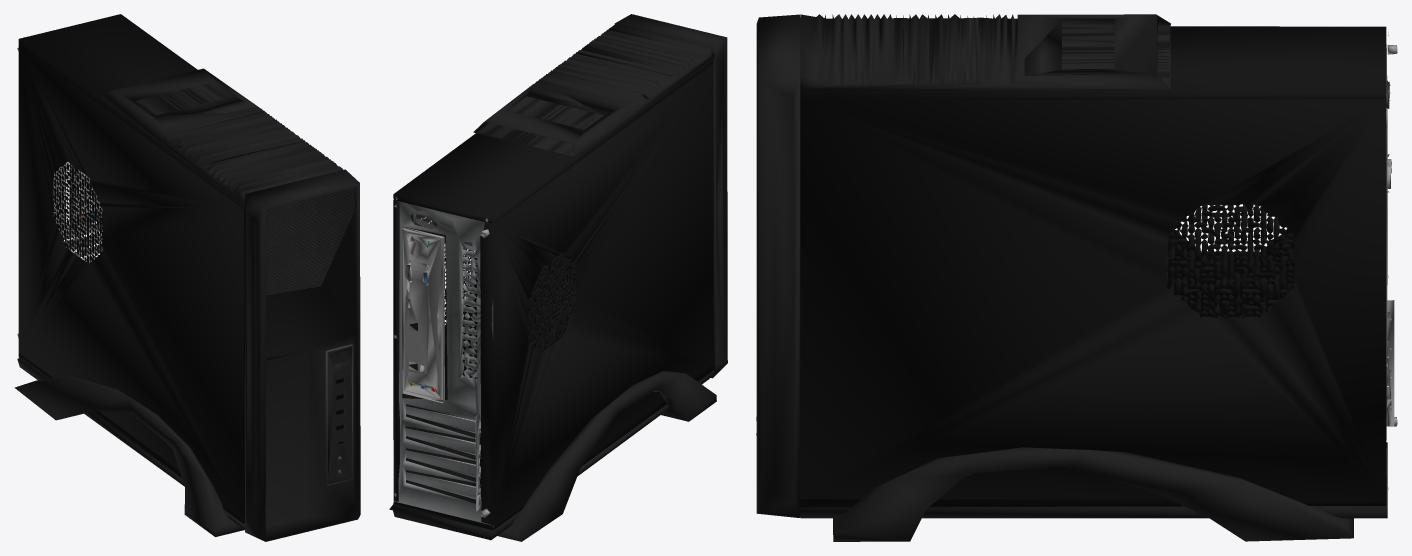
Rendered from computer_desktop_tower_a01.glb.
3 renders of one model, left to right at view 1: azimuth 30°, elevation 25°; view 2: azimuth 150°, elevation 25°; view 3: azimuth 270°, elevation 25°, orthographic. The views are drawn at different scales.
Visible parts, largest first — view 1: sm_computer_desktop_a01_mesh_00; view 2: sm_computer_desktop_a01_mesh_00; view 3: sm_computer_desktop_a01_mesh_00.
Boxes of the visible parts, left/top/right/bottom form: sm_computer_desktop_a01_mesh_00: left=14, top=14, right=360, bottom=541; sm_computer_desktop_a01_mesh_00: left=389, top=14, right=727, bottom=541; sm_computer_desktop_a01_mesh_00: left=756, top=14, right=1397, bottom=541.
Size of the model in its own units: 0.1986 by 0.4888 by 0.6231.
13 materials, 7 textured.
